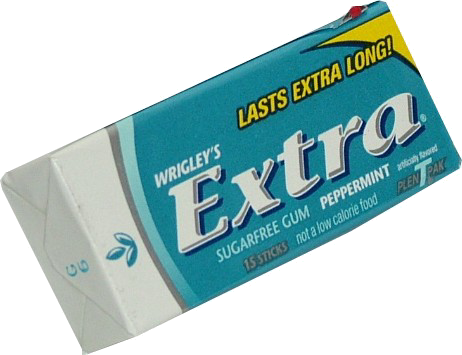grozi_5: (0, 0, 462, 355)
